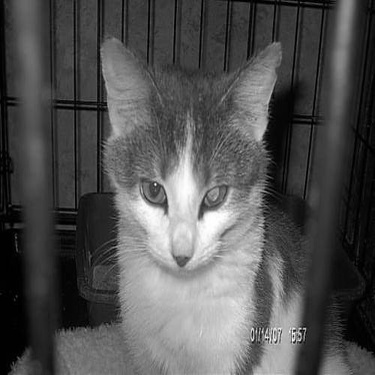cat: (97, 31, 358, 371)
